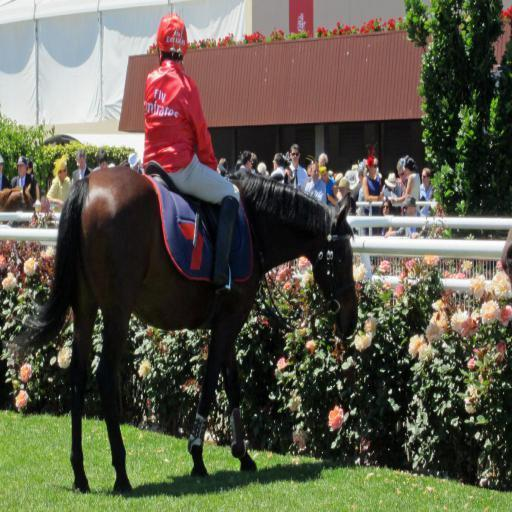horse: (3, 164, 360, 494), (0, 178, 35, 216)
